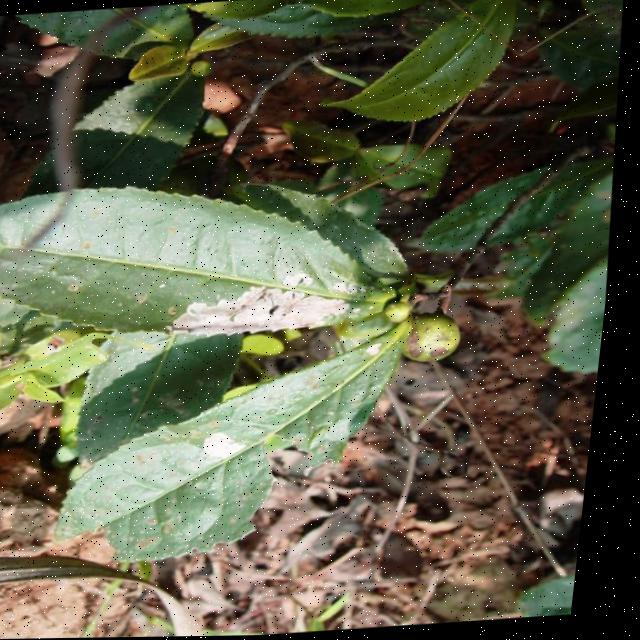Tea algae leaf spot: (164, 269, 364, 362)
